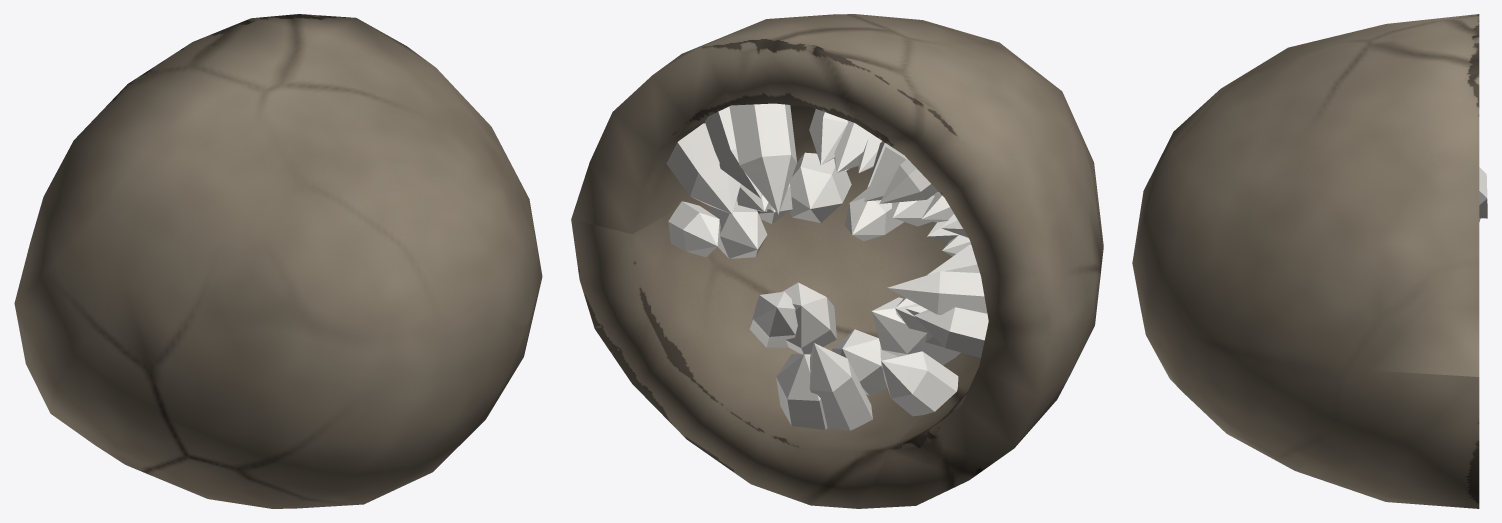
The model's file is geoda_comun.fbx.
3 renders of one model, left to right at view 1: azimuth 30°, elevation 25°; view 2: azimuth 150°, elevation 25°; view 3: azimuth 270°, elevation 25°, orthographic. The views are drawn at different scales.
Visible parts, largest first — view 1: geoda_comun; view 2: geoda_comun, geoda_comun_cristal; view 3: geoda_comun, geoda_comun_cristal.
Part boxes in pixels (x1,y1,x2,y2): geoda_comun: [14, 14, 542, 508]; geoda_comun: [571, 14, 1103, 508]; geoda_comun_cristal: [666, 103, 988, 430]; geoda_comun: [1132, 14, 1479, 508]; geoda_comun_cristal: [1479, 167, 1487, 221].
Size of the model in its own units: 2.42 by 2.21 by 1.6.
2 materials, 2 textured.
